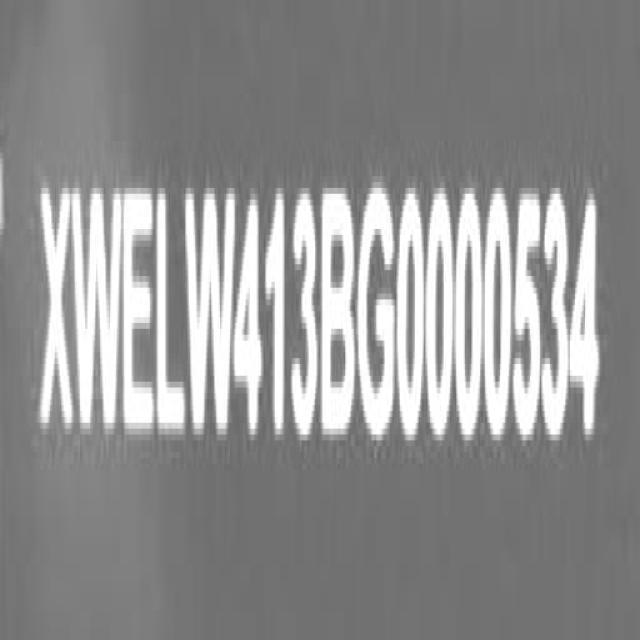0: (396, 180, 429, 445), (425, 186, 456, 445), (482, 180, 512, 447), (455, 182, 485, 447)
1: (266, 185, 290, 452)
3: (293, 183, 323, 453), (544, 185, 574, 452)
4: (571, 194, 603, 448), (234, 186, 264, 450)
5: (513, 182, 543, 446)
B: (322, 182, 357, 447)
E: (123, 182, 158, 448)
G: (358, 178, 396, 444)
L: (156, 186, 186, 448)
W: (72, 178, 125, 448), (184, 187, 235, 437)
X: (36, 178, 72, 448)
